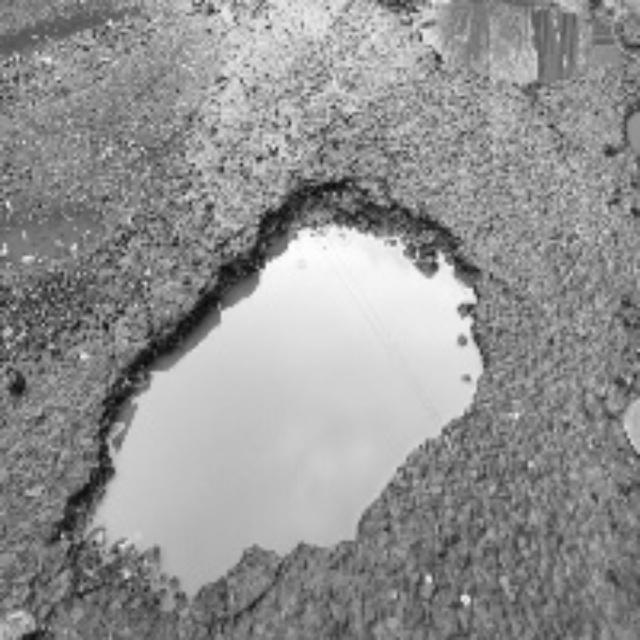Pothole: (11, 199, 561, 552), (398, 0, 640, 112)
